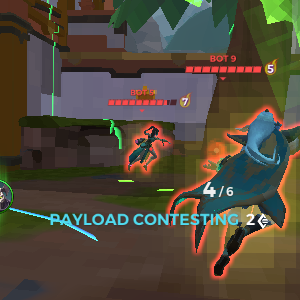model: (190, 90, 292, 272), (118, 122, 168, 179)
